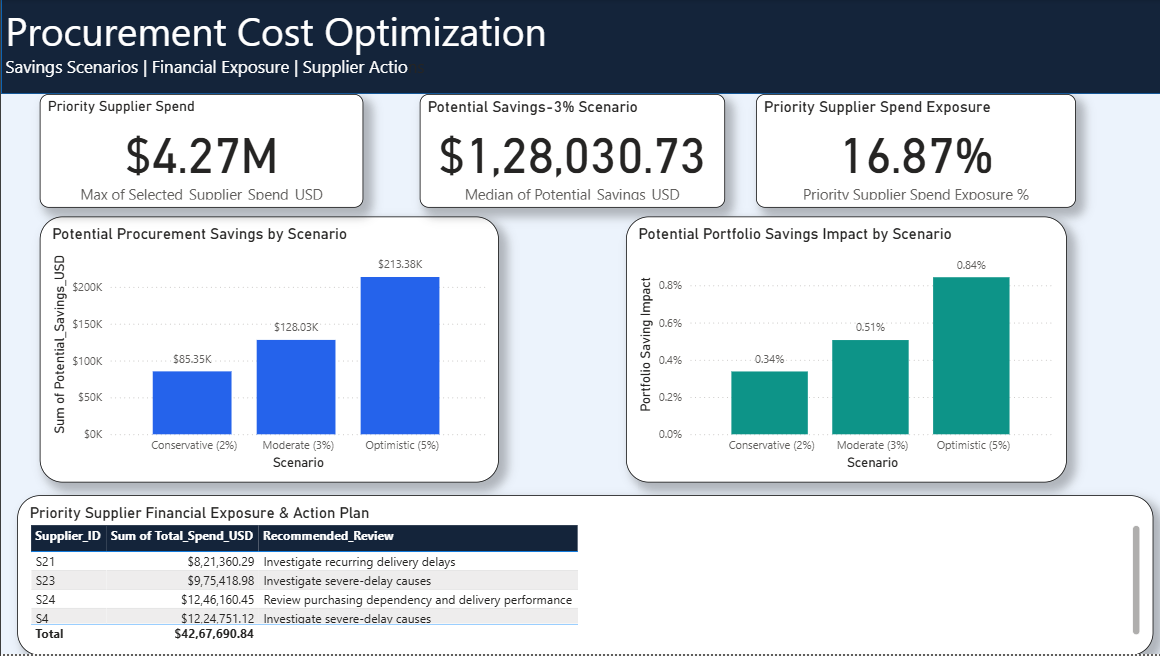

The page's visual inventory and layout, read from the dashboard file:
{"tool":"powerbi","page":{"name":"Cost optimization","canvas":[1280,720],"ordinal":2},"visuals":[{"type":"clusteredColumnChart","title":"Potential Procurement Savings by Scenario","fields":{"Category":["cost_scenarios.Scenario"],"Y":["Sum(cost_scenarios.Potential_Savings_USD)"]},"box":[0,163.1,513.8,327.7],"z":0},{"type":"card","title":"Priorityu Supplier Spend","fields":{"Values":["Max(cost_scenarios.Selected_Supplier_Spend_USD)"]},"box":[0,0,352.3,163.1],"z":1},{"type":"card","title":"Potential Savings-3% Scenario","fields":{"Values":["Median(cost_scenarios.Potential_Savings_USD)"]},"box":[372.3,0,407.7,152.3],"z":2},{"type":"card","title":"Priority Supplier Spend Exposure","fields":{"Values":["cost_scenarios.Priority Supplier Spend Exposure %"]},"box":[795.4,0,384.6,152.3],"z":3},{"type":"clusteredColumnChart","title":"Potential Portfolio Savings Impact by Scenario","fields":{"Category":["cost_scenarios.Scenario"],"Y":["cost_scenarios.Portfolio Saving Impact"]},"box":[640,164.6,493.8,327.7],"z":4},{"type":"tableEx","title":"Priority Supplier Financial Exposure & Action Plan","fields":{"Values":["supplier_action_plan.Supplier_ID","Sum(supplier_action_plan.Total_Spend_USD)","supplier_action_plan.Recommended_Review"]},"box":[276.9,521.5,600,198.5],"z":5}]}

Visuals, with their boxes in screenshot pixels (x1, y1, x2, y2), scaled from the page's 1280x720 canvas onto the 1160x656 screenshot:
"Potential Procurement Savings by Scenario" clusteredColumnChart: {"left": 0, "top": 149, "right": 466, "bottom": 447}
"Priorityu Supplier Spend" card: {"left": 0, "top": 0, "right": 319, "bottom": 149}
"Potential Savings-3% Scenario" card: {"left": 337, "top": 0, "right": 707, "bottom": 139}
"Priority Supplier Spend Exposure" card: {"left": 721, "top": 0, "right": 1069, "bottom": 139}
"Potential Portfolio Savings Impact by Scenario" clusteredColumnChart: {"left": 580, "top": 150, "right": 1028, "bottom": 449}
"Priority Supplier Financial Exposure & Action Plan" tableEx: {"left": 251, "top": 475, "right": 795, "bottom": 655}
